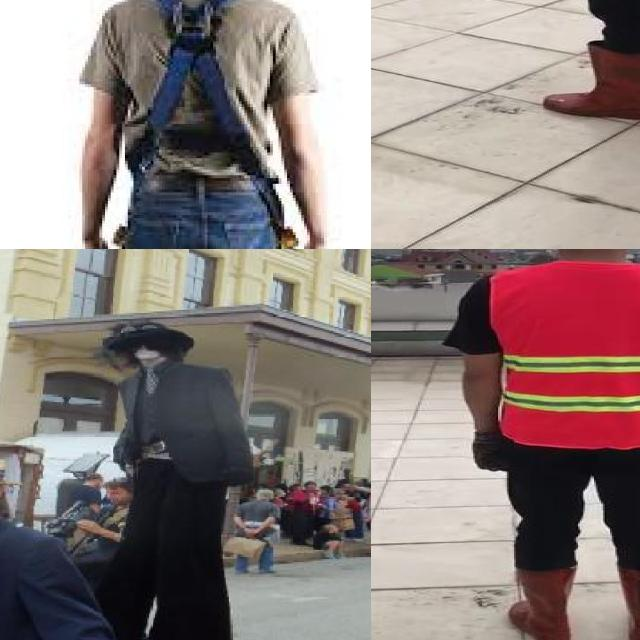Harness: (127, 0, 263, 189)
boots: (545, 45, 640, 118), (508, 568, 579, 640), (617, 568, 640, 640)
hand_glove: (468, 431, 510, 472)
person: (445, 249, 640, 640), (91, 304, 252, 640), (521, 0, 640, 126)
vest: (489, 263, 640, 448)
